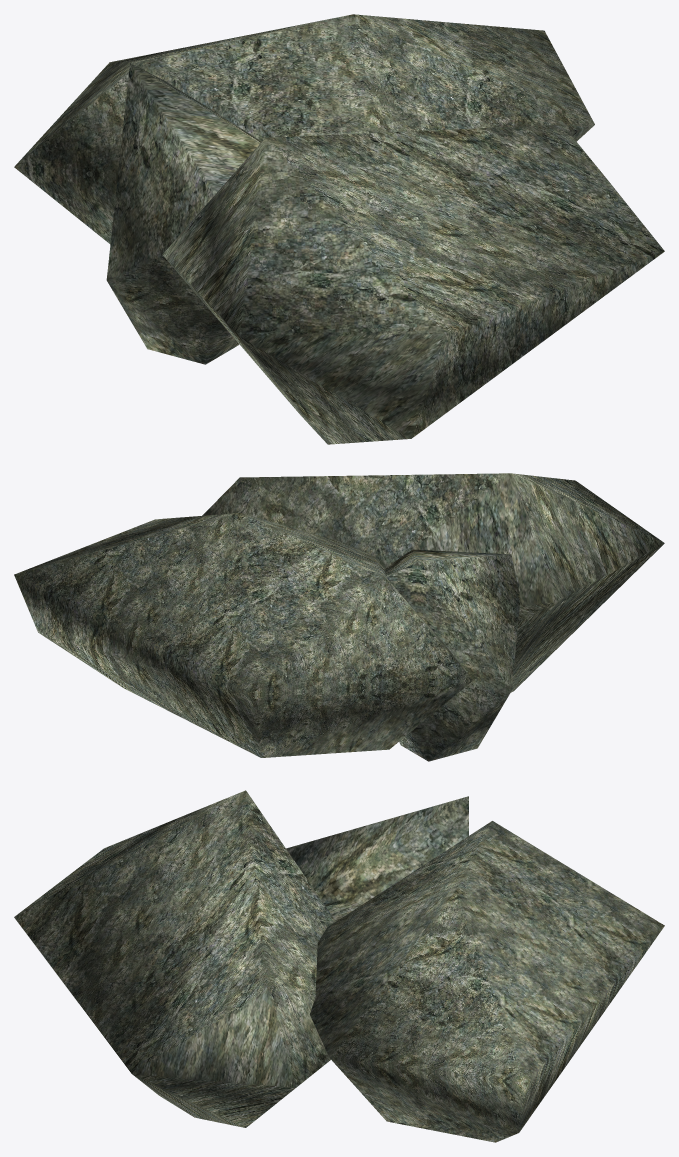
Rendered from mtns_rock_grey_a10_l2.fbx.
3 views of the same model, one above another, from view 1: azimuth 30°, elevation 25°; view 2: azimuth 150°, elevation 25°; view 3: azimuth 270°, elevation 25° (orthographic). The views are drawn at different scales.
Parts seen in each view (by area): view 1: mesh_node; view 2: mesh_node; view 3: mesh_node.
Boxes of the visible parts, box(x1,y1,x2,y2) form: mesh_node: box(14, 14, 664, 444); mesh_node: box(14, 473, 664, 761); mesh_node: box(14, 790, 664, 1142).
Size of the model in its own units: 0.8569 by 0.4405 by 0.9915.
1 material, 1 textured.
